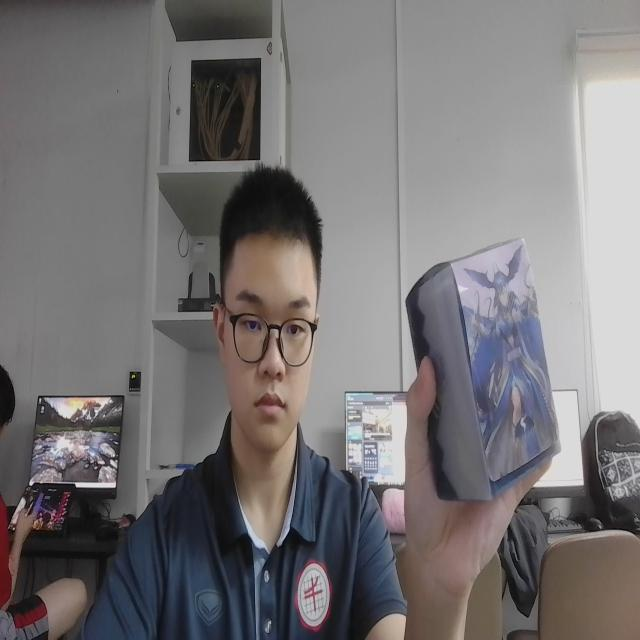box: (400, 223, 568, 520)
